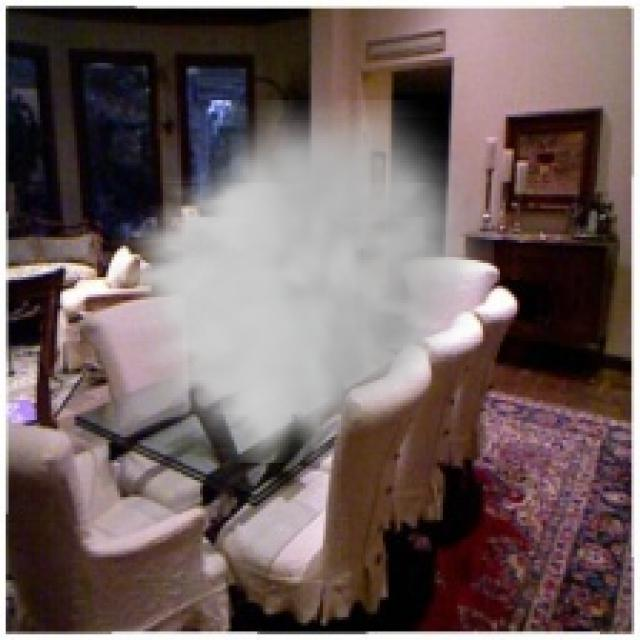smoke: (112, 100, 494, 463)
